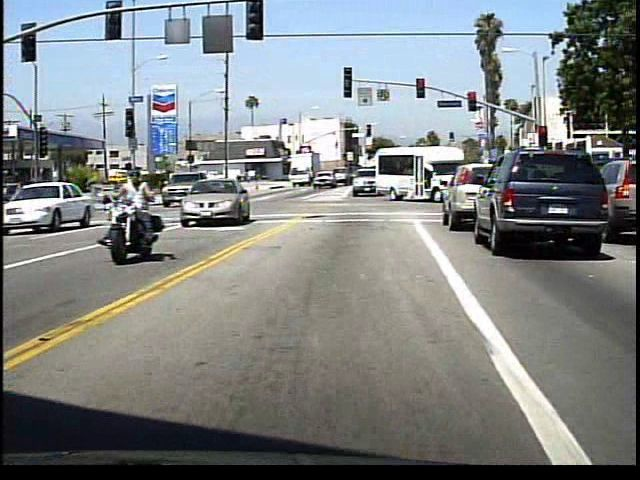person: (111, 163, 168, 262)
